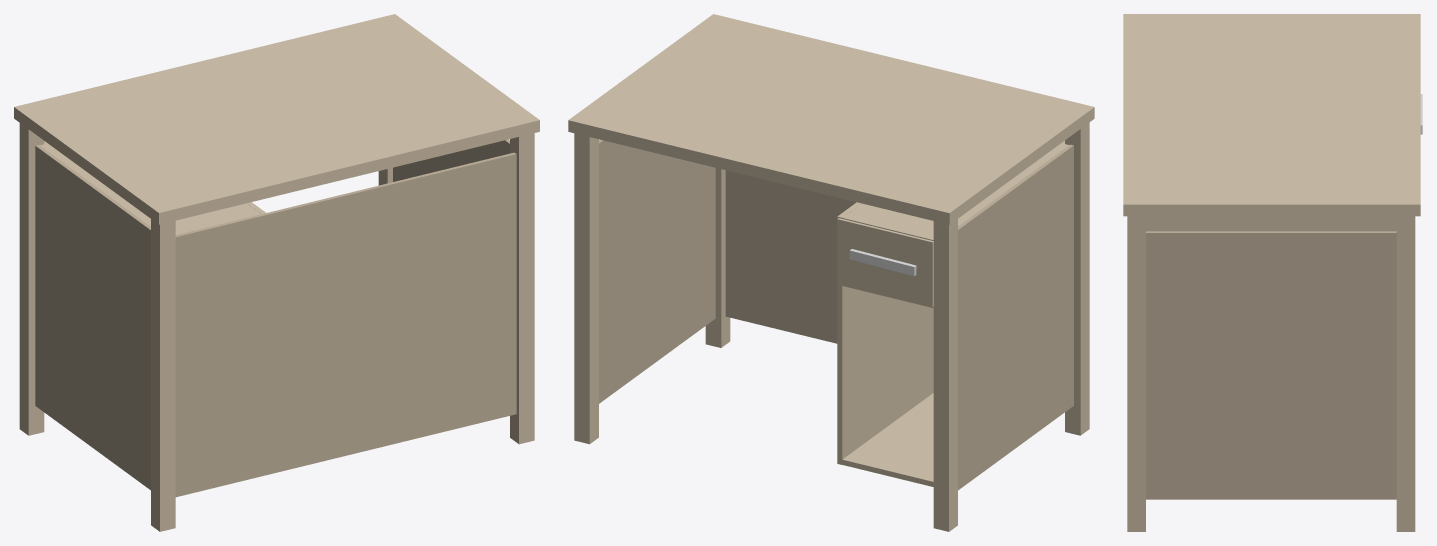
File: table3.fbx
3 renders of one model, left to right at view 1: azimuth 30°, elevation 25°; view 2: azimuth 150°, elevation 25°; view 3: azimuth 270°, elevation 25°, orthographic. The views are drawn at different scales.
Parts seen in each view (by area): view 1: Cube_13; view 2: Cube_13; view 3: Cube_13.
Part boxes in pixels (left/top/right/bottom): Cube_13: left=14, top=14, right=539, bottom=531; Cube_13: left=568, top=14, right=1094, bottom=531; Cube_13: left=1123, top=14, right=1422, bottom=531.
Size of the model in its own units: 148 by 119 by 98.24.
